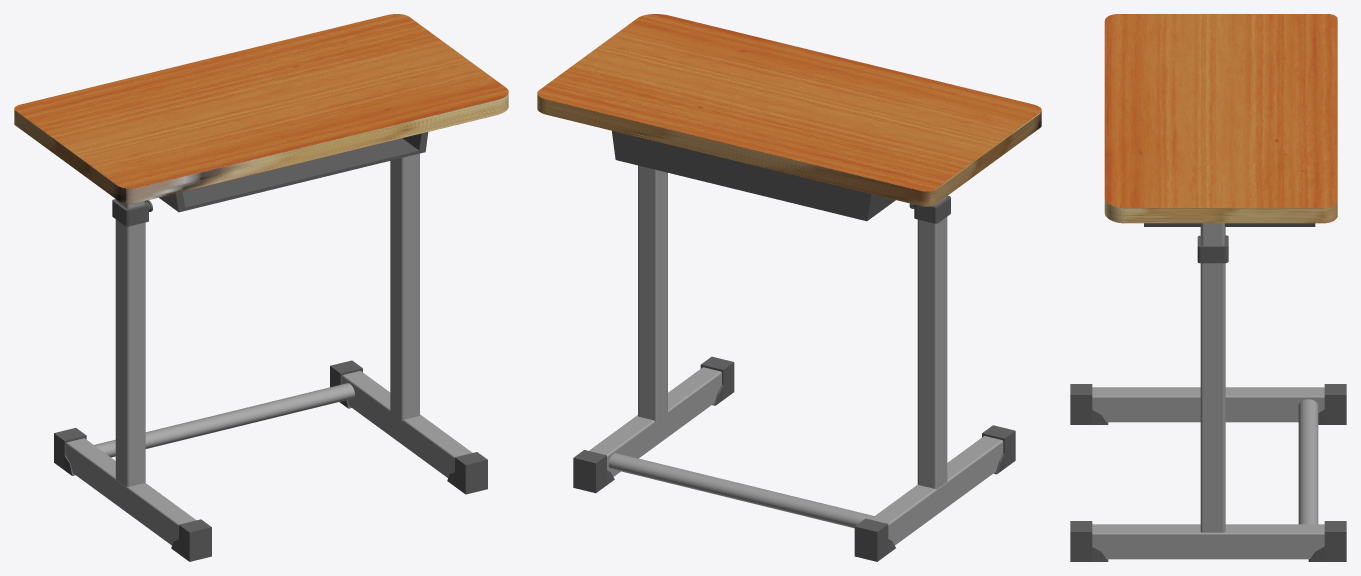
File: StudentDesk.fbx
The picture shows the model from 3 angles, left to right: view 1: azimuth 30°, elevation 25°; view 2: azimuth 150°, elevation 25°; view 3: azimuth 270°, elevation 25°; orthographic projection.
Visible parts, largest first — view 1: Cube.008, Cube.003, Cube.006, Cube, Cube.007, Chair.Under.001, Chair.Under.002, Cylinder, Chair.Cover.001, Chair.Cover.003, Chair.Cover.002, Cube.004; view 2: Cube.008, Cube.003, Cube, Cube.007, Cube.006, Chair.Under.001, Cylinder, Chair.Under.002, Chair.Cover.002, Chair.Cover.004, Chair.Cover.001, Chair.Cover.003 (+1 smaller); view 3: Cube.008, Chair.Under.002, Cube.006, Chair.Under.001, Cube, Cylinder, Chair.Cover.001, Chair.Cover.004, Chair.Cover.003, Chair.Cover.002, Cube.001, Cube.007 (+1 smaller).
Part boxes in pixels (<box>): Cube.008: <box>14,14,508,188</box>; Cube.003: <box>115,219,145,486</box>; Cube.006: <box>390,153,419,421</box>; Cube: <box>14,93,508,203</box>; Cube.007: <box>159,132,428,212</box>; Chair.Under.001: <box>66,438,196,545</box>; Chair.Under.002: <box>342,371,472,477</box>; Cylinder: <box>94,383,354,457</box>; Chair.Cover.001: <box>447,452,487,494</box>; Chair.Cover.003: <box>171,519,211,561</box>; Chair.Cover.002: <box>54,428,86,475</box>; Cube.004: <box>112,199,148,226</box>; Cube.008: <box>537,14,1041,191</box>; Cube.003: <box>917,217,947,489</box>; Cube: <box>537,94,1041,206</box>; Cube.007: <box>612,131,895,221</box>; Cube.006: <box>638,165,667,422</box>; Chair.Under.001: <box>870,436,1003,545</box>; Cylinder: <box>608,453,874,528</box>; Chair.Under.002: <box>589,367,721,476</box>; Chair.Cover.002: <box>854,518,895,561</box>; Chair.Cover.004: <box>573,450,614,493</box>; Chair.Cover.001: <box>700,356,734,405</box>; Chair.Cover.003: <box>982,425,1015,474</box>; Cube.008: <box>1104,14,1337,208</box>; Chair.Under.002: <box>1092,524,1324,559</box>; Cube.006: <box>1200,263,1225,532</box>; Chair.Under.001: <box>1092,387,1324,422</box>; Cube: <box>1104,198,1337,223</box>; Cylinder: <box>1298,399,1318,524</box>; Chair.Cover.001: <box>1070,521,1108,561</box>; Chair.Cover.004: <box>1308,521,1346,561</box>; Chair.Cover.003: <box>1070,384,1108,424</box>; Chair.Cover.002: <box>1318,384,1346,424</box>; Cube.001: <box>1197,235,1228,263</box>; Cube.007: <box>1144,223,1315,226</box>.
Size of the model in its own units: 804 by 727 by 483.
